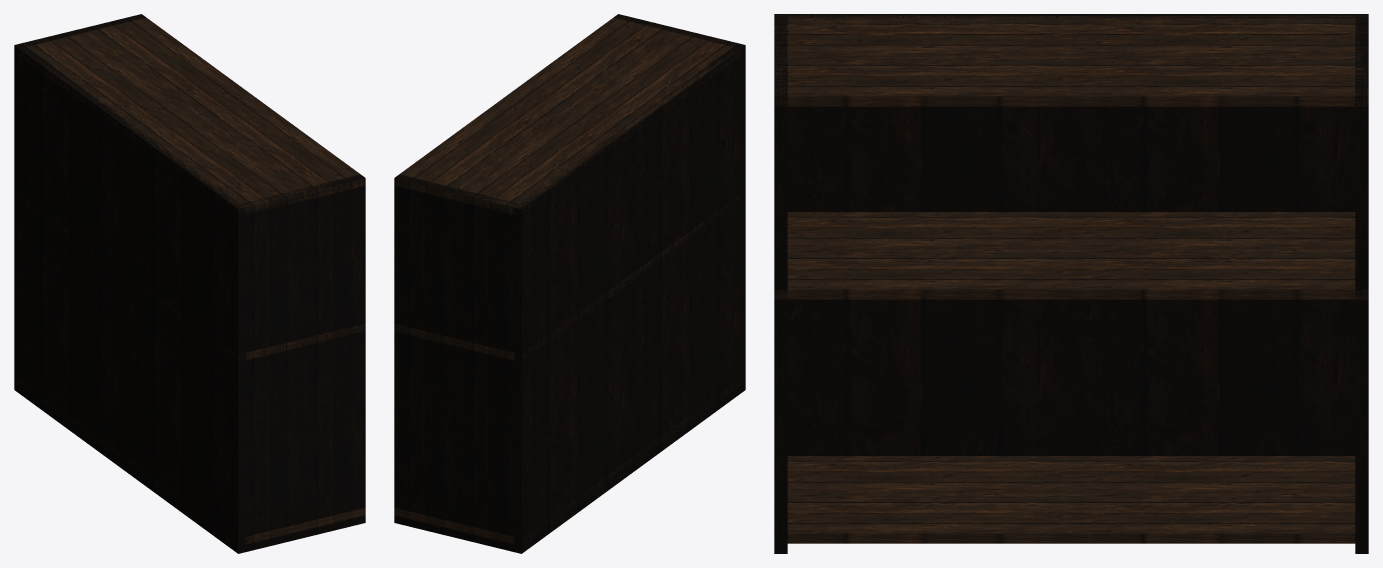
3 renders of one model, left to right at view 1: azimuth 30°, elevation 25°; view 2: azimuth 150°, elevation 25°; view 3: azimuth 270°, elevation 25°, orthographic. The views are drawn at different scales.
Visible parts, largest first — view 1: fixture-D-files; view 2: fixture-D-files; view 3: fixture-D-files.
Part boxes in pixels (x1,y1,x2,y2): fixture-D-files: (14,14,365,553); fixture-D-files: (394,14,745,553); fixture-D-files: (774,14,1368,553).
Bounding box in the file's own units: 0.87 × 2.25 × 2.65.
Materials: 2 (2 with a texture image).
